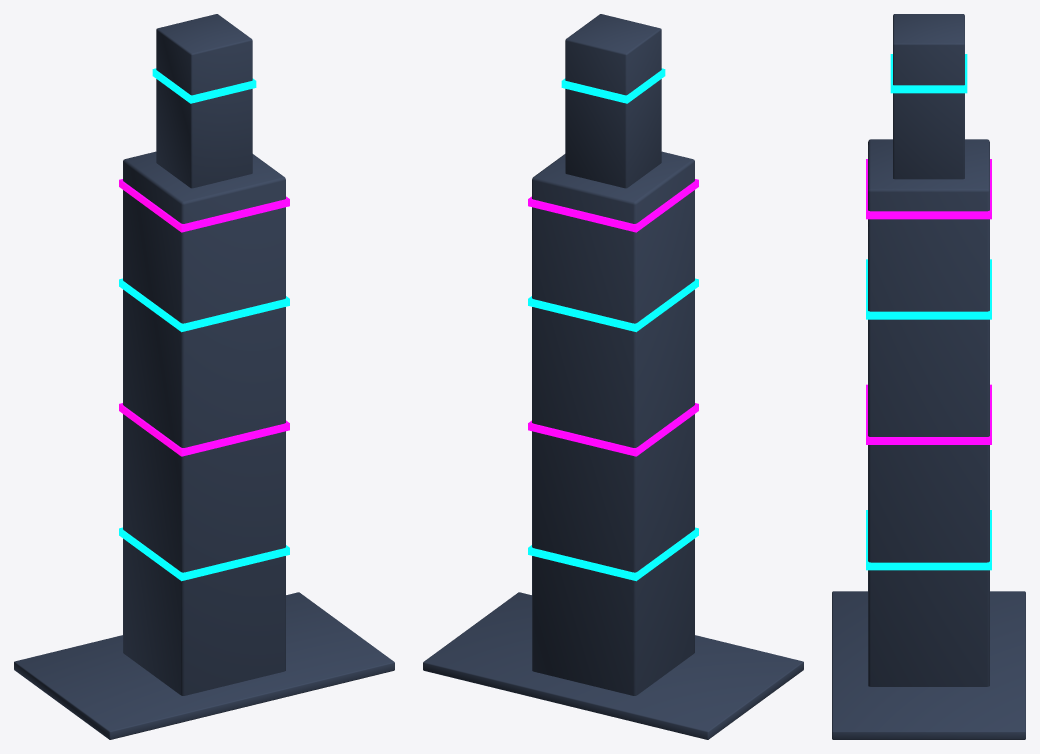
The model's file is cyber_city.glb.
3 renders of one model, left to right at view 1: azimuth 30°, elevation 25°; view 2: azimuth 150°, elevation 25°; view 3: azimuth 270°, elevation 25°, orthographic.
Parts seen in each view (by area): view 1: Megastructure, TrenchPlate, MegastructureSpire, NeonBand_0, NeonBand_2, NeonBand_3, NeonBand_1, NeonBand_4; view 2: Megastructure, TrenchPlate, MegastructureSpire, NeonBand_0, NeonBand_2, NeonBand_3, NeonBand_1, NeonBand_4; view 3: Megastructure, TrenchPlate, MegastructureSpire, NeonBand_0, NeonBand_3, NeonBand_2, NeonBand_1, NeonBand_4.
Boxes of the visible parts, left/top/right/bottom form: Megastructure: left=123, top=151, right=285, bottom=695; TrenchPlate: left=14, top=592, right=394, bottom=739; MegastructureSpire: left=156, top=14, right=252, bottom=188; NeonBand_0: left=119, top=527, right=289, bottom=581; NeonBand_2: left=119, top=278, right=289, bottom=332; NeonBand_3: left=119, top=179, right=289, bottom=232; NeonBand_1: left=119, top=403, right=289, bottom=456; NeonBand_4: left=152, top=68, right=256, bottom=103; Megastructure: left=532, top=151, right=694, bottom=695; TrenchPlate: left=423, top=592, right=803, bottom=739; MegastructureSpire: left=565, top=14, right=661, bottom=188; NeonBand_0: left=528, top=527, right=698, bottom=581; NeonBand_2: left=528, top=278, right=698, bottom=332; NeonBand_3: left=528, top=179, right=698, bottom=232; NeonBand_1: left=528, top=403, right=698, bottom=456; NeonBand_4: left=561, top=68, right=665, bottom=103; Megastructure: left=868, top=139, right=989, bottom=686; TrenchPlate: left=832, top=591, right=1025, bottom=739; MegastructureSpire: left=893, top=14, right=964, bottom=179; NeonBand_0: left=866, top=510, right=991, bottom=570; NeonBand_3: left=866, top=159, right=991, bottom=219; NeonBand_2: left=866, top=259, right=991, bottom=319; NeonBand_1: left=866, top=384, right=991, bottom=444; NeonBand_4: left=890, top=54, right=967, bottom=93.
Bounding box in the file's own units: 6 × 12.79 × 3.5.
